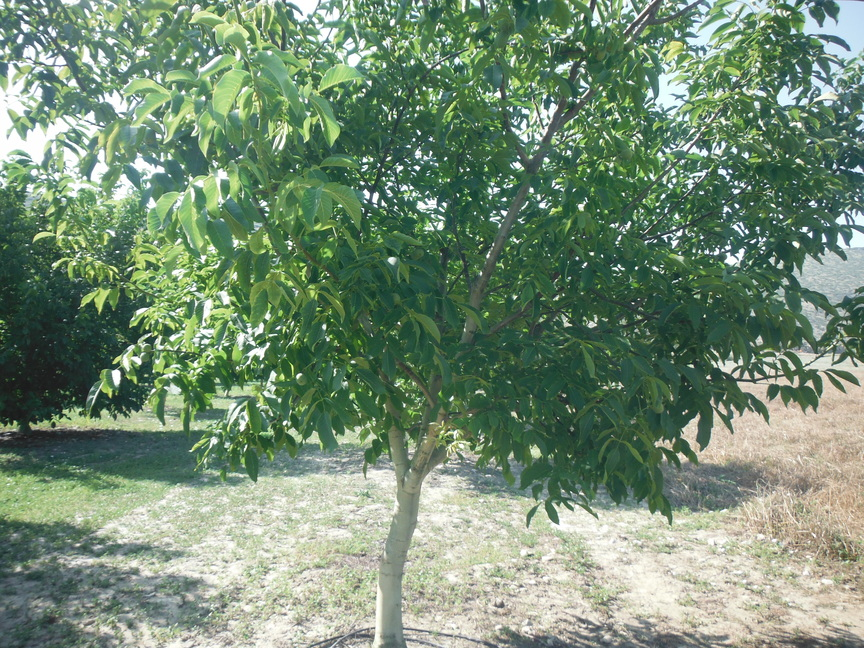walnut: (141, 126, 159, 148), (650, 398, 665, 418), (387, 289, 403, 306), (163, 55, 178, 73), (294, 370, 309, 388), (621, 245, 635, 263), (106, 64, 121, 80), (623, 38, 637, 54), (618, 147, 635, 160), (723, 263, 737, 278), (138, 350, 151, 366), (595, 48, 608, 63), (411, 246, 426, 259), (141, 340, 154, 355), (611, 154, 623, 169), (539, 256, 552, 269), (428, 73, 440, 87), (332, 237, 346, 249), (408, 251, 420, 263), (605, 39, 616, 52), (716, 251, 729, 262), (615, 41, 625, 53), (325, 232, 336, 242)
